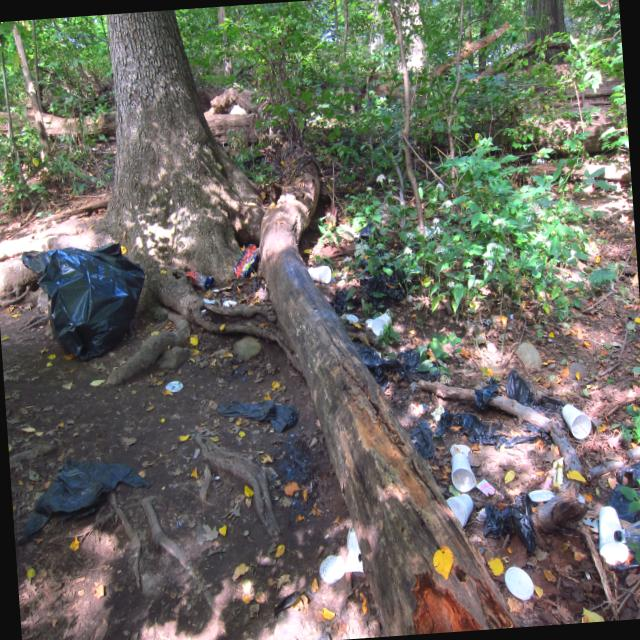garbage: (5, 167, 640, 640)
